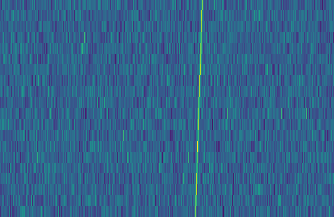signal: (190, 0, 207, 217)
